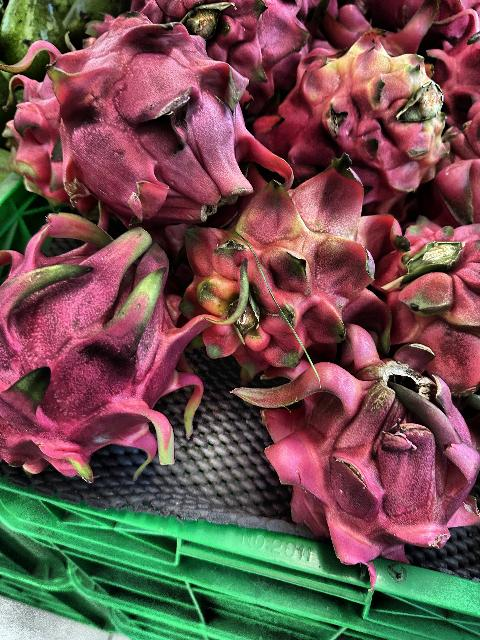buah-naga-belum-matang: (177, 178, 402, 358), (284, 42, 442, 194), (380, 206, 480, 407)
buah-naga-matang: (0, 208, 208, 482), (246, 327, 480, 561), (28, 25, 248, 204), (146, 0, 302, 102)
